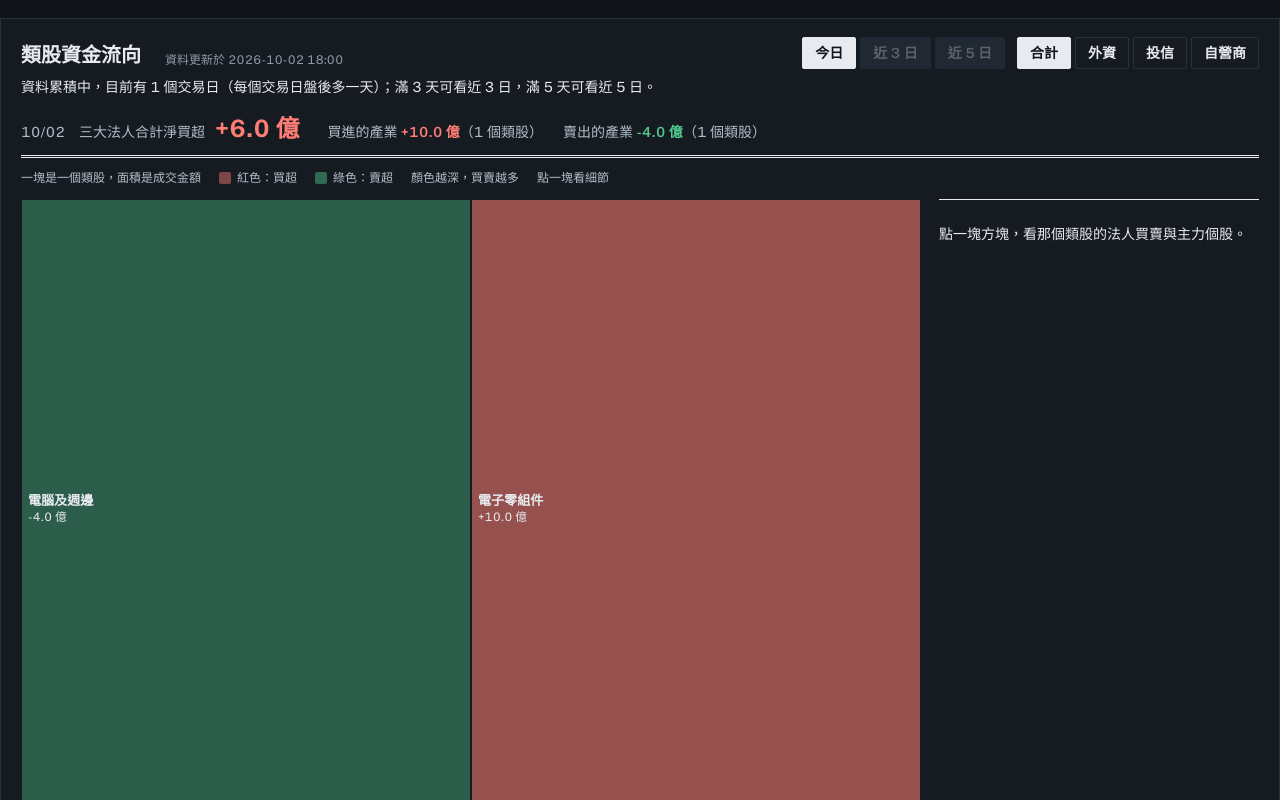
SectorFlowPage: the day › recolours for another investor group
expect the heading "類股資金流向" is shown: met, box [21,42,141,69]
expect the text "10/02 三大法人合計淨買超" is shown: met, box [21,122,205,143]
Step 1. Click the button "外資" → (1102, 53), box [1075,37,1129,69]
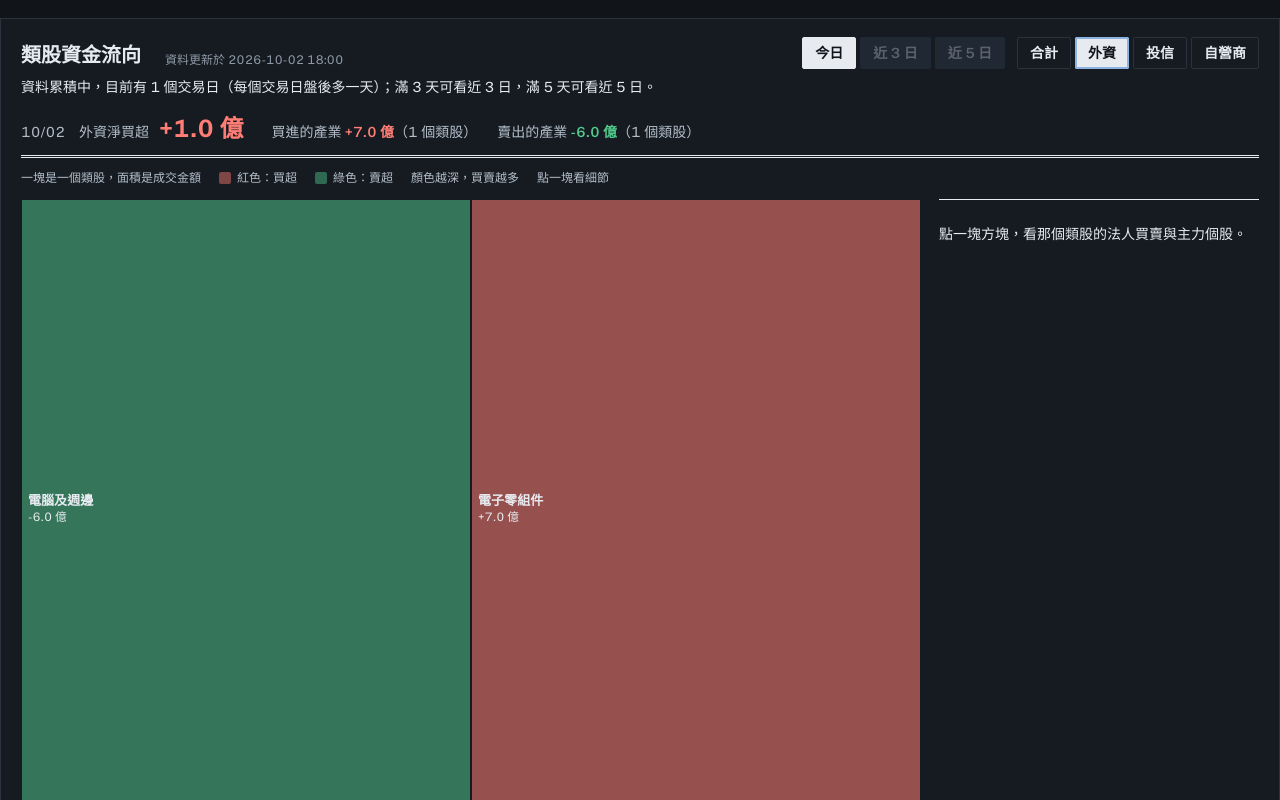
expect the text "10/02 外資淨買超" is shown: met, box [21,122,149,143]
expect the text "+1.0 億" is shown: met, box [159,114,243,143]
Step 2. Click the button "投信" → (1160, 53), box [1133,37,1187,69]
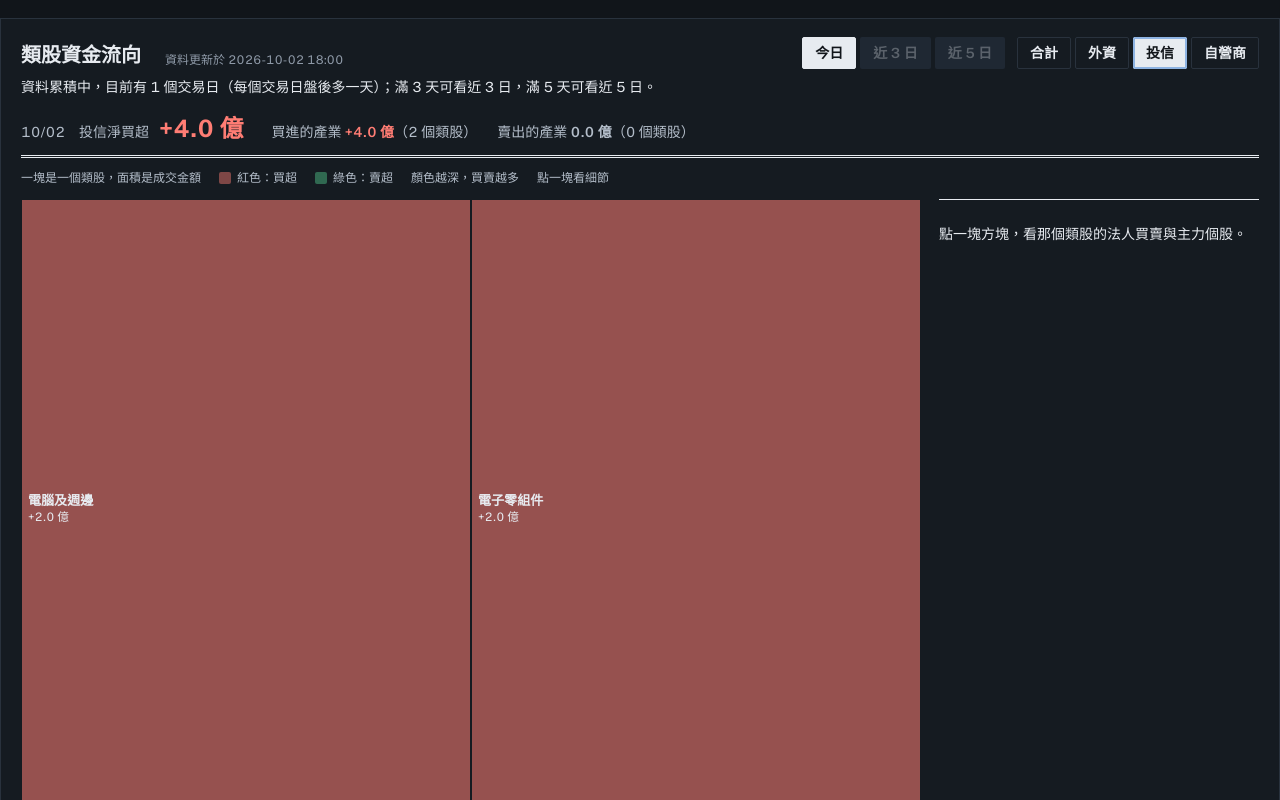
expect the text "+1.0 億" next to "淨買超" reads "+4.0 億": met, box [159,114,243,142]
